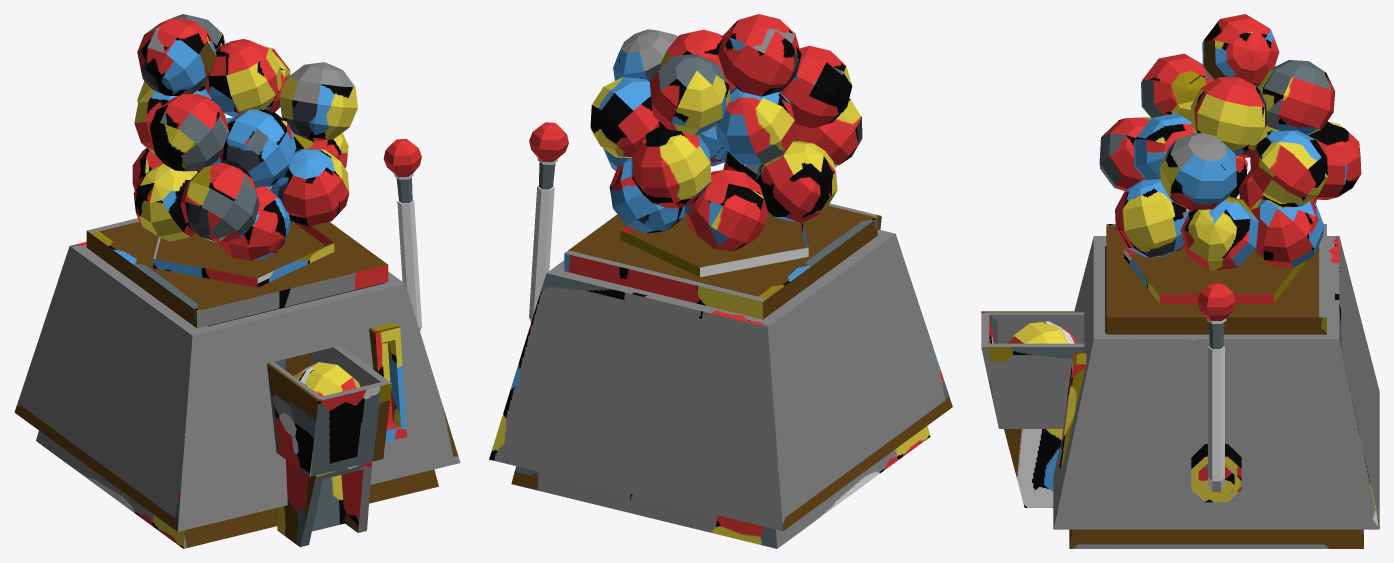
3 renders of one model, left to right at view 1: azimuth 30°, elevation 25°; view 2: azimuth 150°, elevation 25°; view 3: azimuth 270°, elevation 25°, orthographic. The views are drawn at different scales.
Visible parts, largest first — view 1: 立方体.027, 立方体.029; view 2: 立方体.027, 立方体.029; view 3: 立方体.027, 立方体.029.
Boxes of the visible parts, box(x1,y1,x2,y2) form: 立方体.027: box(14, 14, 460, 548); 立方体.029: box(383, 139, 421, 330); 立方体.027: box(489, 14, 952, 548); 立方体.029: box(529, 122, 568, 322); 立方体.027: box(981, 14, 1379, 548); 立方体.029: box(1197, 283, 1235, 492).
Bounding box in the file's own units: 221 × 293 × 236.
Materials: 4 (1 with a texture image).
